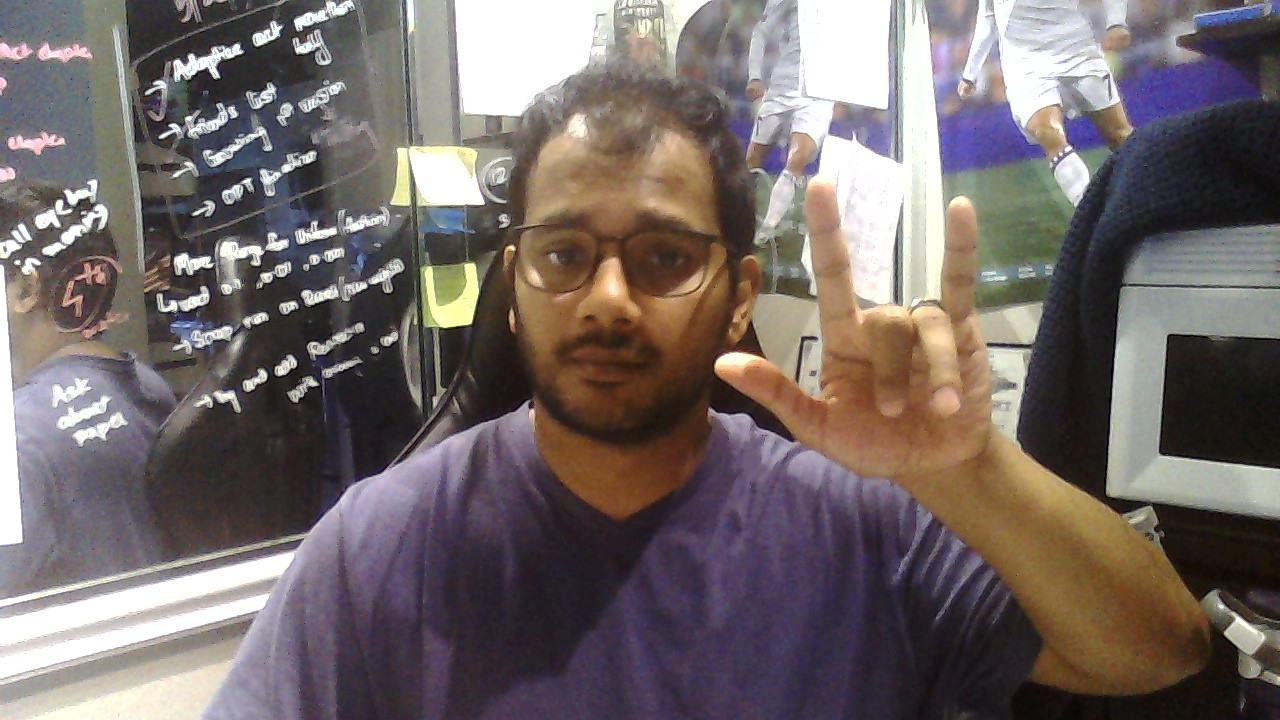ILoveYou: (713, 174, 992, 478)
